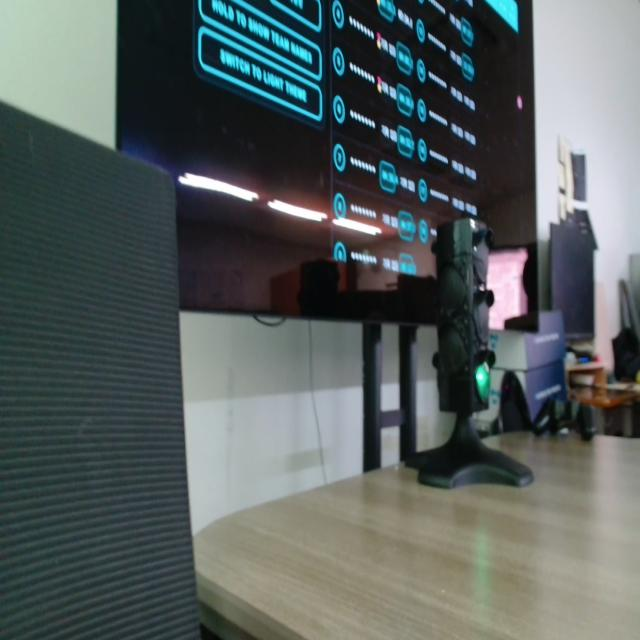green_light: (476, 364, 490, 401)
